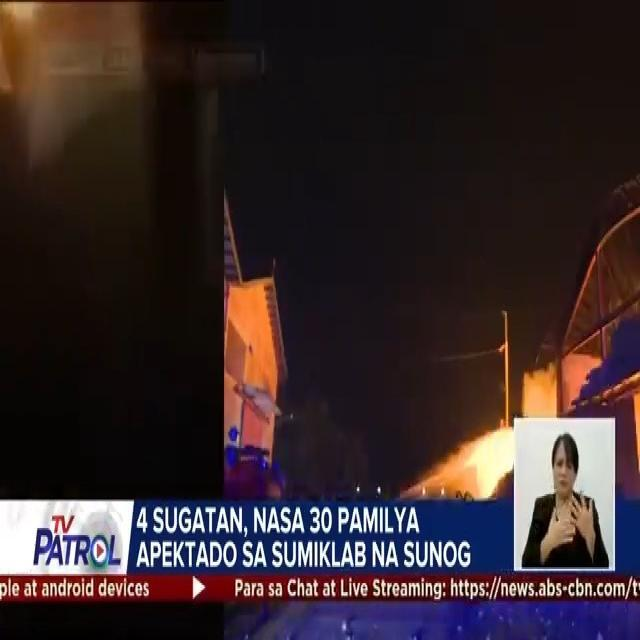Fire: (470, 423, 511, 508)
Smoke: (0, 0, 139, 134)
